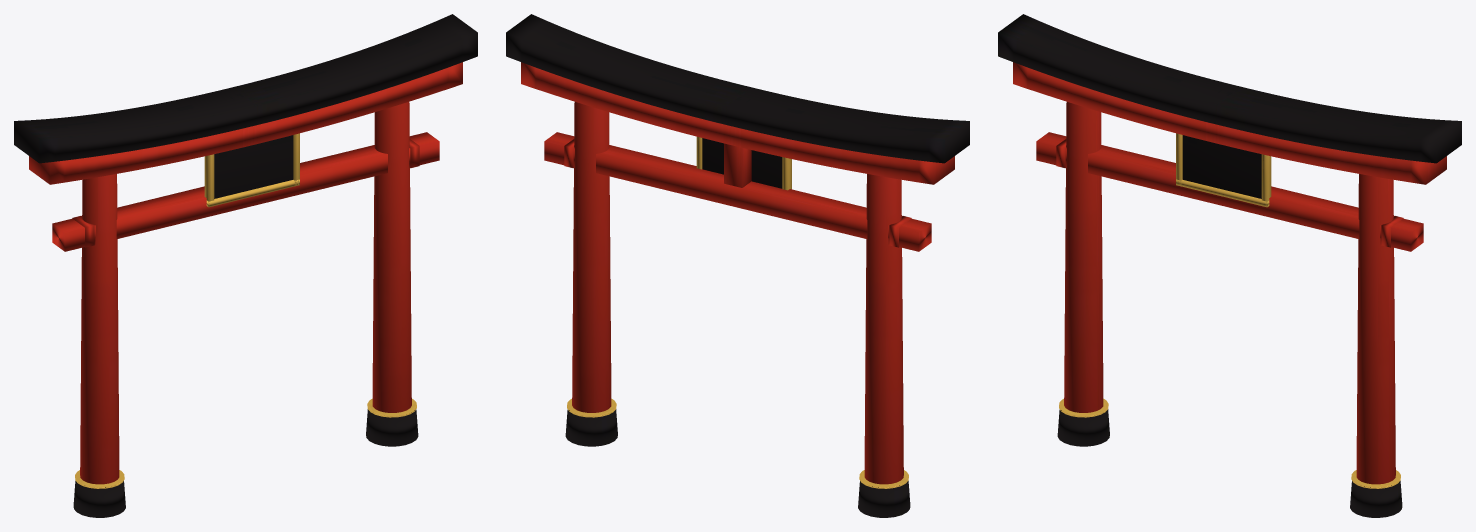
File: torii.glb
The picture shows the model from 3 angles, left to right: view 1: azimuth 30°, elevation 25°; view 2: azimuth 150°, elevation 25°; view 3: azimuth 330°, elevation 25°; orthographic projection.
Parts seen in each view (by area): view 1: AnsaroTorii_Body, AnsaroTorii_Sign, AnsaroTorii_SignFrame; view 2: AnsaroTorii_Body, AnsaroTorii_Sign, AnsaroTorii_SignFrame; view 3: AnsaroTorii_Body, AnsaroTorii_Sign, AnsaroTorii_SignFrame.
Boxes of the visible parts, bbox=[...] form: AnsaroTorii_Body: bbox=[14, 14, 477, 517]; AnsaroTorii_Sign: bbox=[214, 135, 293, 198]; AnsaroTorii_SignFrame: bbox=[204, 133, 299, 207]; AnsaroTorii_Body: bbox=[506, 14, 969, 517]; AnsaroTorii_Sign: bbox=[702, 138, 782, 188]; AnsaroTorii_SignFrame: bbox=[696, 136, 791, 190]; AnsaroTorii_Body: bbox=[998, 14, 1461, 517]; AnsaroTorii_Sign: bbox=[1182, 135, 1261, 198]; AnsaroTorii_SignFrame: bbox=[1176, 133, 1271, 207].
Size of the model in its own units: 24 by 20.62 by 2.5.
Materials: 1 (1 with a texture image).
